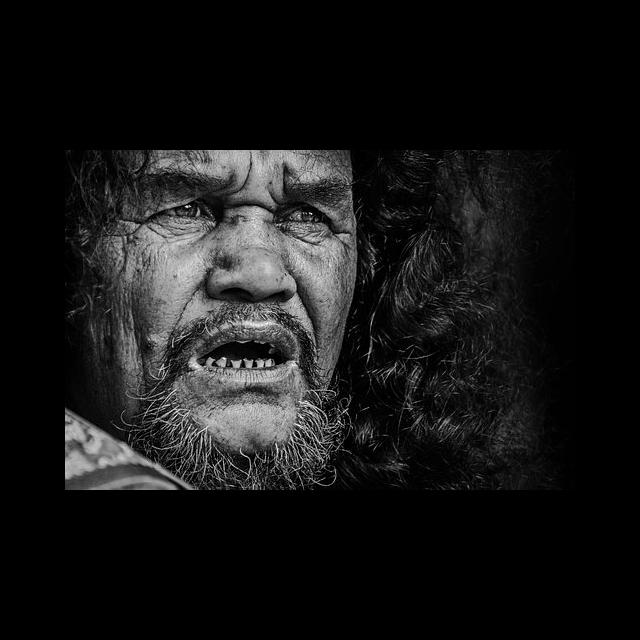male: (70, 150, 395, 472)
